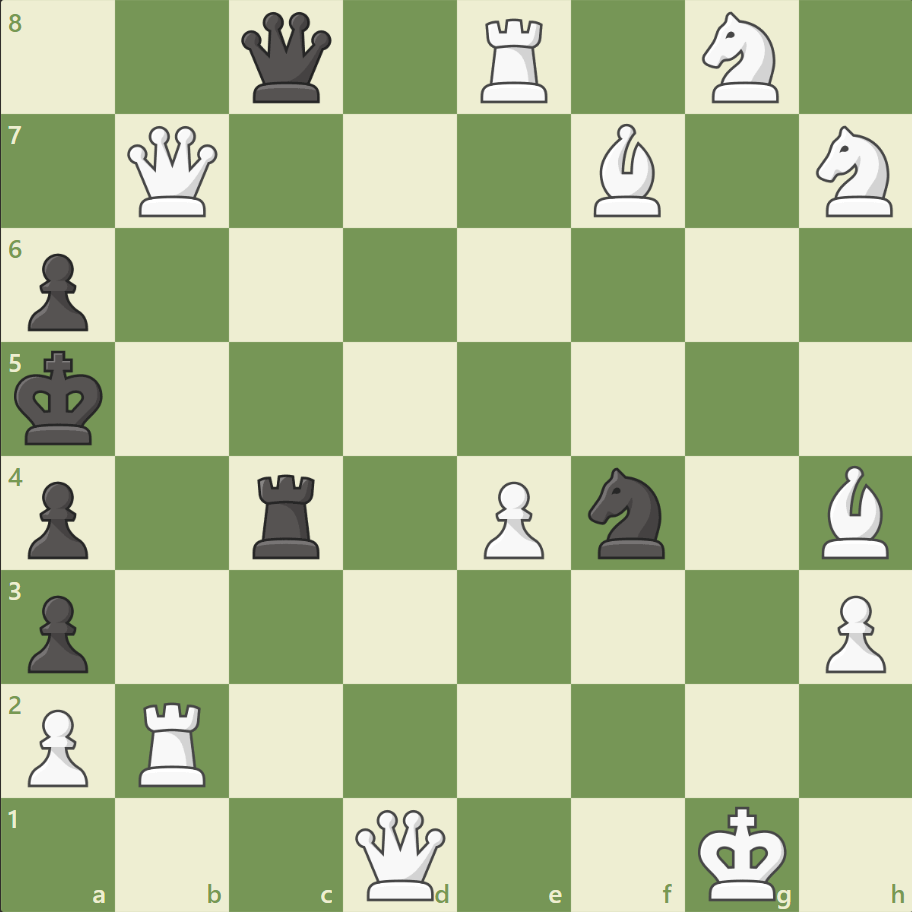B: (812, 460, 896, 563), (585, 120, 669, 222)
K: (692, 798, 792, 906)
N: (692, 7, 789, 110), (806, 121, 903, 223)
P: (474, 473, 549, 564), (20, 700, 95, 791), (815, 586, 889, 677)
Q: (124, 122, 223, 222), (351, 804, 450, 903)
R: (473, 12, 556, 109), (133, 693, 215, 790)
k: (11, 344, 111, 452)
n: (579, 461, 676, 564)
p: (20, 246, 95, 337), (20, 473, 95, 564), (20, 586, 95, 677)
q: (237, 9, 336, 108)
r: (246, 466, 329, 563)
